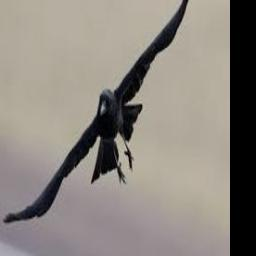Crow: (3, 0, 201, 225)
